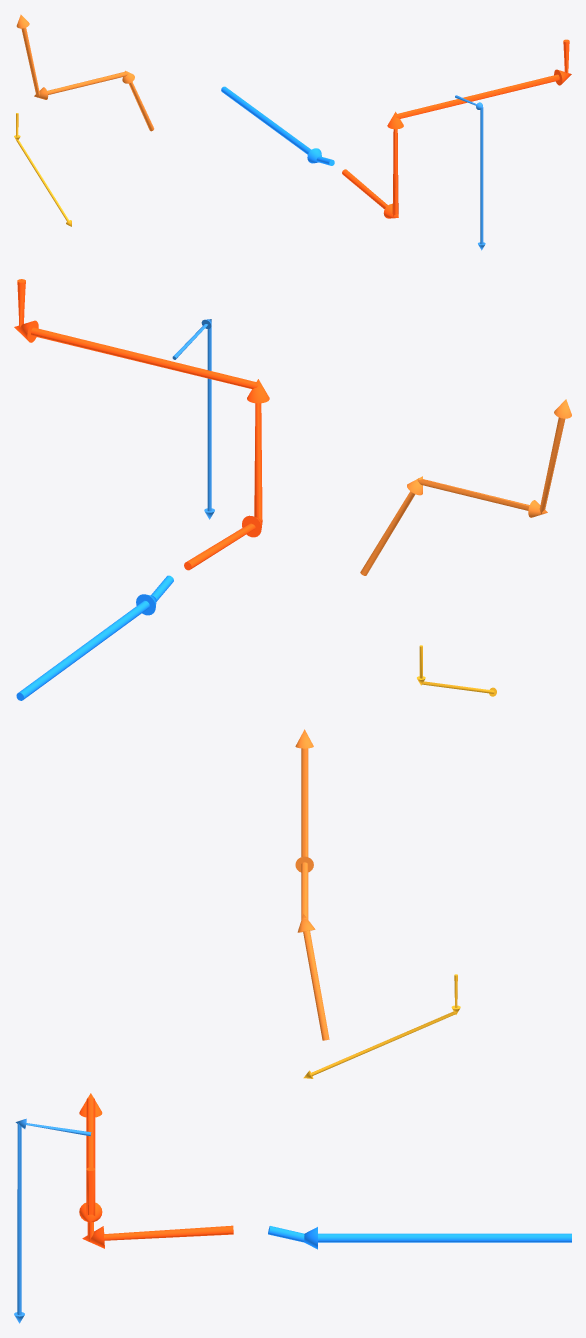
The model's file is emergency_diesel_firewater_system_flow.glb.
3 views of the same model, one above another, from view 1: azimuth 30°, elevation 25°; view 2: azimuth 150°, elevation 25°; view 3: azimuth 270°, elevation 25° (orthographic). The views are drawn at different scales.
Parts seen in each view (by area): view 1: discharge, exhaust.002, suction, relief, fuel; view 2: discharge, exhaust.002, suction, relief; view 3: suction, discharge, exhaust.002, relief, fuel.
Part boxes in pixels (x1,y1,x2,y2): discharge: (342, 39, 571, 218); exhaust.002: (16, 14, 154, 131); suction: (221, 86, 334, 165); relief: (455, 95, 485, 250); fuel: (14, 113, 71, 226); discharge: (14, 279, 269, 570); exhaust.002: (360, 399, 571, 575); suction: (16, 575, 173, 700); relief: (172, 319, 214, 519); suction: (268, 1226, 571, 1249); discharge: (79, 1093, 233, 1248); exhaust.002: (295, 729, 329, 1040); relief: (14, 1118, 91, 1323); fuel: (303, 974, 460, 1078).
Size of the model in its own units: 4.34 by 2.16 by 3.13.
